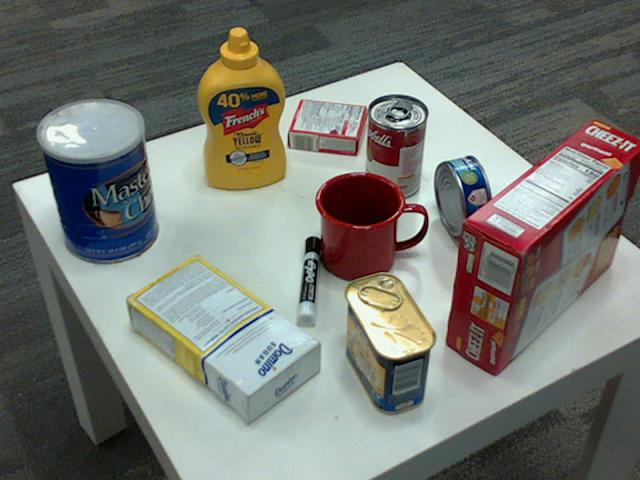cracker_box: (444, 118, 639, 373)
gelatin_box: (289, 98, 368, 152)
large_marker: (295, 237, 321, 330)
master_chef_can: (35, 99, 156, 264)
mug: (314, 169, 424, 278)
mustard_bottle: (197, 28, 286, 188)
potted_meat_can: (342, 273, 437, 413)
sugar_box: (122, 252, 318, 418)
tomato_soup_can: (364, 95, 427, 199)
tuna_fish_can: (433, 155, 490, 235)
